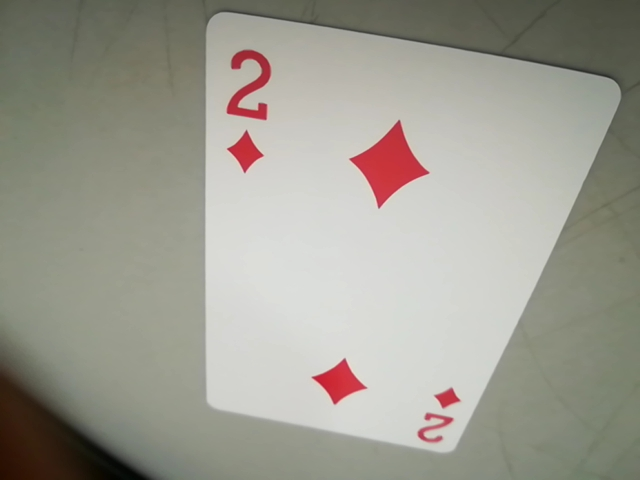fk 2: (209, 31, 282, 151), (410, 382, 468, 451)
